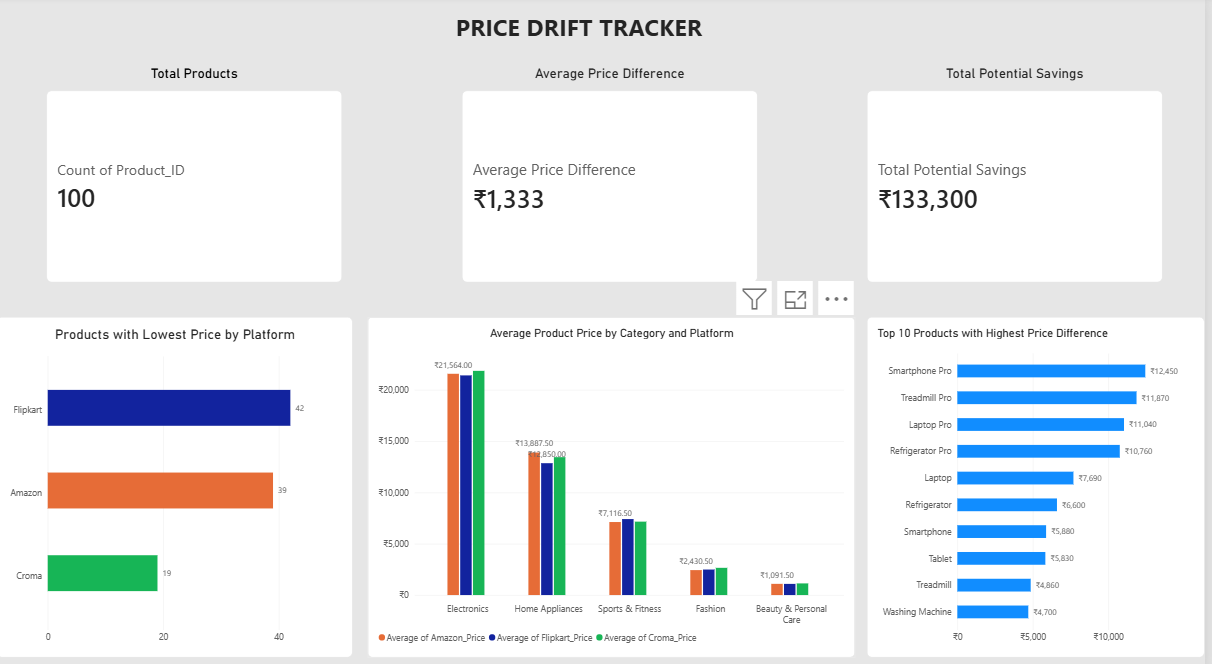

Layout of this report page (visuals, bound fields, positions):
{"tool":"powerbi","page":{"name":"Page 1","canvas":[1920,1080],"ordinal":0},"visuals":[{"type":"cardVisual","title":"Total Products","fields":{"Data":["Count(Sheet1.Product_ID)"]},"box":[78.7,109.8,470,346],"z":0},{"type":"cardVisual","title":"Average Price Difference","fields":{"Data":["Sheet1.Average Price Difference"]},"box":[739.6,109.8,470,346],"z":1000},{"type":"cardVisual","title":"\tTotal Potential Savings","fields":{"Data":["Sheet1.Total Savings Display"]},"box":[1383.8,109.8,470,346],"z":2000},{"type":"clusteredBarChart","title":"Products with Lowest Price by Platform","fields":{"Category":["Sheet1.Cheapest_Platform"],"Y":["CountNonNull(Sheet1.Product_ID)"]},"box":[0,510.6,565.5,541.6],"z":3000},{"type":"textbox","box":[549.9,22.7,754,76.5],"z":4000},{"type":"clusteredColumnChart","title":"Average Product Price by Category and Platform","fields":{"Category":["Sheet1.Category"],"Y":["Avg(Sheet1.Amazon_Price)","Avg(Sheet1.Flipkart_Price)","Avg(Sheet1.Croma_Price)"]},"box":[588.9,510.6,775.4,541.6],"z":5000},{"type":"clusteredBarChart","title":"Top 10 Products with Highest Price Difference","fields":{"Category":["Sheet1.Product_Name"],"Y":["Sum(Sheet1.Price_Difference)"]},"box":[1383,510.6,536.8,541.6],"z":6000}]}

Visuals, with their boxes in screenshot pixels (x1, y1, x2, y2), scaled from the page's 1920x1080 canvas onto the 1212x664 screenshot:
"Total Products" cardVisual: 50,68,346,280
"Average Price Difference" cardVisual: 467,68,764,280
"	Total Potential Savings" cardVisual: 874,68,1170,280
"Products with Lowest Price by Platform" clusteredBarChart: 0,314,357,647
textbox: 347,14,823,61
"Average Product Price by Category and Platform" clusteredColumnChart: 372,314,861,647
"Top 10 Products with Highest Price Difference" clusteredBarChart: 873,314,1211,647
